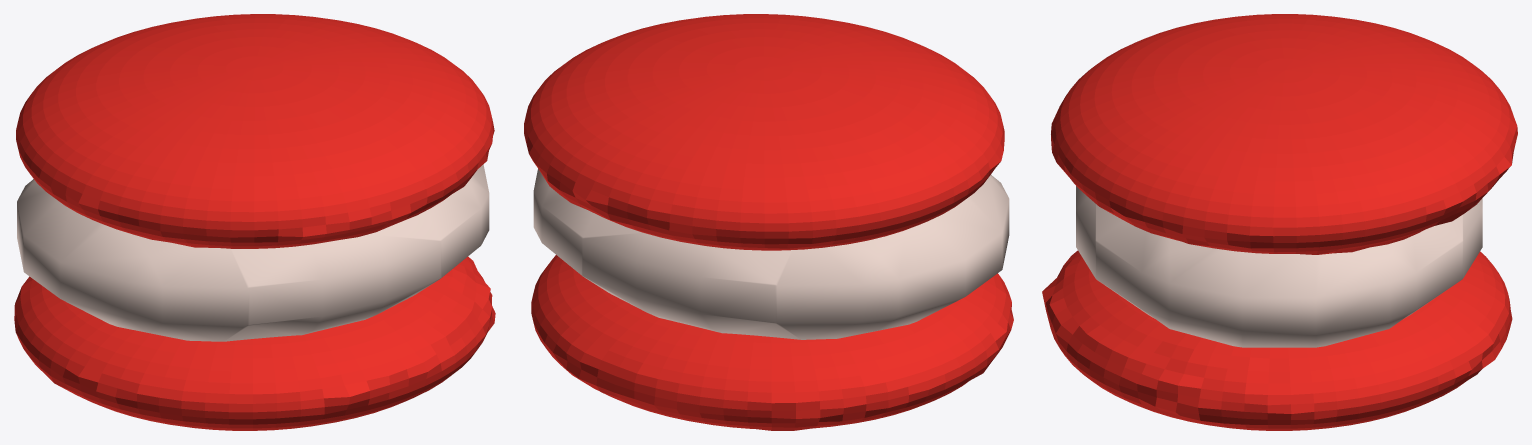
Rendered from macronRed.fbx.
The picture shows the model from 3 angles, left to right: view 1: azimuth 30°, elevation 25°; view 2: azimuth 150°, elevation 25°; view 3: azimuth 270°, elevation 25°; orthographic projection.
Visible parts, largest first — view 1: Sphere.001, Sphere, Mball; view 2: Sphere.001, Sphere, Mball; view 3: Sphere.001, Sphere, Mball.
Boxes of the visible parts, <box> form: Sphere.001: <box>16,14,494,248</box>; Sphere: <box>14,256,495,430</box>; Mball: <box>17,164,489,341</box>; Sphere.001: <box>524,14,1004,250</box>; Sphere: <box>531,255,1013,430</box>; Mball: <box>533,168,1009,339</box>; Sphere.001: <box>1051,14,1517,254</box>; Sphere: <box>1042,250,1512,430</box>; Mball: <box>1076,186,1482,347</box>.
Size of the model in its own units: 5.29 by 3.65 by 5.14.
